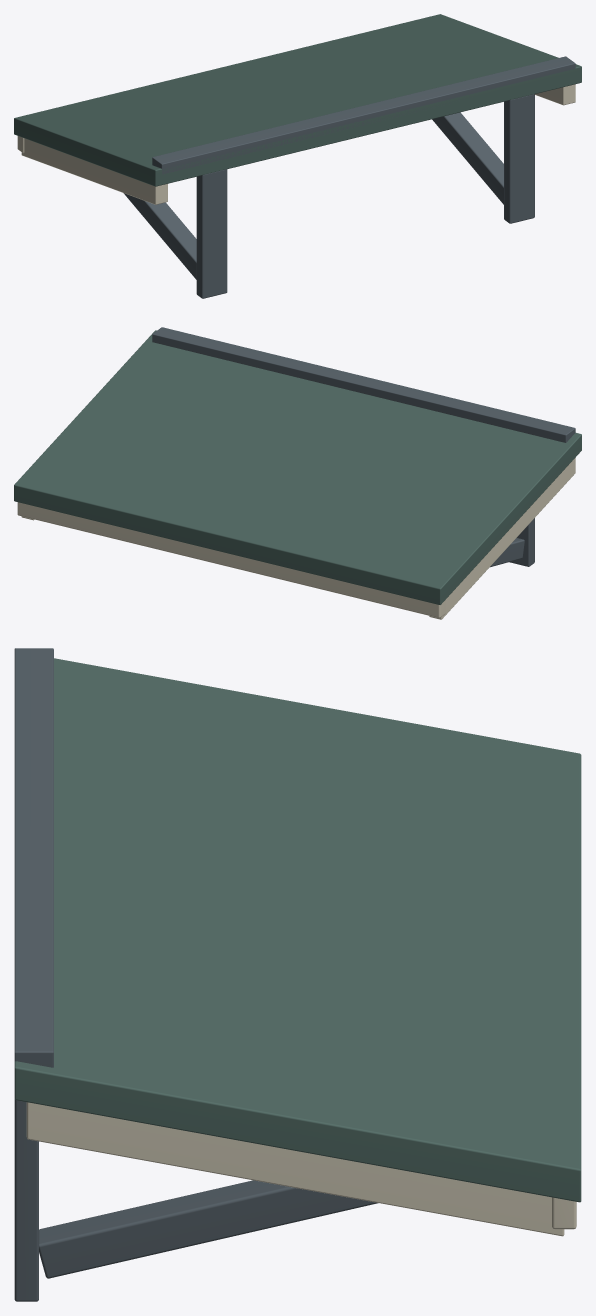
File: d02_domestic_details_04.glb
The picture shows the model from 3 angles, top to bottom: view 1: azimuth 30°, elevation 25°; view 2: azimuth 150°, elevation 25°; view 3: azimuth 270°, elevation 25°; orthographic projection. The views are drawn at different scales.
Parts seen in each view (by area): view 1: D02DomesticDetails04_Mesh; view 2: D02DomesticDetails04_Mesh; view 3: D02DomesticDetails04_Mesh.
Part boxes in pixels (x1=…): D02DomesticDetails04_Mesh: x1=14, y1=14, x2=581, y2=298; D02DomesticDetails04_Mesh: x1=14, y1=327, x2=581, y2=619; D02DomesticDetails04_Mesh: x1=14, y1=648, x2=581, y2=1301.
Size of the model in its own units: 2 by 0.65 by 1.15.
